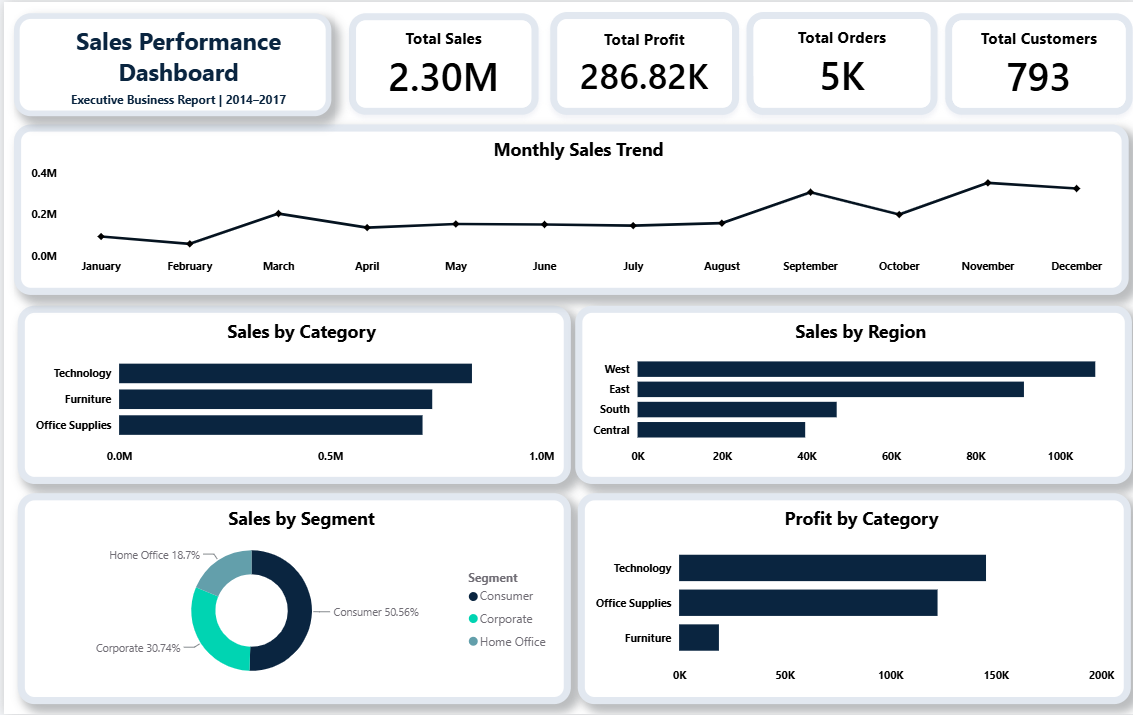

The page's visual inventory and layout, read from the dashboard file:
{"tool":"powerbi","page":{"name":"Page 1","canvas":[1278,803],"ordinal":0},"visuals":[{"type":"cardVisual","fields":{"Data":["Sum(Superstore.Sales)"]},"box":[388.9,12.1,213.9,114.4],"z":0},{"type":"cardVisual","fields":{"Data":["Sum(Superstore.Profit)"]},"box":[614.9,10.8,212.6,115.7],"z":1000},{"type":"cardVisual","fields":{"Data":["Superstore.Total Orders"]},"box":[836.9,10.8,215.3,115.7],"z":2000},{"type":"cardVisual","fields":{"Data":["Superstore.Total Customers"]},"box":[1060.3,12.1,211.2,114.4],"z":3000},{"type":"clusteredBarChart","title":"Sales by Category","fields":{"Category":["Superstore.Category"],"Y":["Sum(Superstore.Sales)"]},"box":[15.1,341.9,623.5,201.1],"z":5000},{"type":"lineChart","title":"Monthly Sales Trend","fields":{"Y":["Sum(Superstore.Sales)"],"Category":["Superstore.Order_Date.Variation.Date Hierarchy.Year","Superstore.Order_Date.Variation.Date Hierarchy.Quarter","Superstore.Order_Date.Variation.Date Hierarchy.Month","Superstore.Order_Date.Variation.Date Hierarchy.Day"]},"box":[10.9,137.7,1256.1,192.3],"z":5500},{"type":"clusteredBarChart","title":"Sales by Region","fields":{"Category":["Superstore.Region"],"Y":["Sum(Superstore.Profit)"]},"box":[643.6,341.9,627.3,201.1],"z":6000},{"type":"donutChart","title":"Sales by Segment","fields":{"Category":["Superstore.Segment"],"Y":["Sum(Superstore.Sales)"]},"box":[15.1,553.1,623.5,237.6],"z":7000},{"type":"clusteredBarChart","title":"Profit by Category","fields":{"Category":["Superstore.Category"],"Y":["Sum(Superstore.Profit)"]},"box":[646.1,553.1,623.5,237.6],"z":8000},{"type":"textbox","title":"Sales Performance Dashboard","box":[10.8,12.1,357.9,115.7],"z":9000}]}

Visuals, with their boxes in screenshot pixels (x1, y1, x2, y2), scaled from the page's 1278x803 canvas onto the 1133x715 screenshot:
cardVisual - Sum(Superstore.Sales): select_region(345, 11, 534, 113)
cardVisual - Sum(Superstore.Profit): select_region(545, 10, 734, 113)
cardVisual - Superstore.Total Orders: select_region(742, 10, 933, 113)
cardVisual - Superstore.Total Customers: select_region(940, 11, 1127, 113)
"Sales by Category" clusteredBarChart: select_region(13, 304, 566, 483)
"Monthly Sales Trend" lineChart: select_region(10, 123, 1123, 294)
"Sales by Region" clusteredBarChart: select_region(571, 304, 1127, 483)
"Sales by Segment" donutChart: select_region(13, 492, 566, 704)
"Profit by Category" clusteredBarChart: select_region(573, 492, 1126, 704)
"Sales Performance Dashboard" textbox: select_region(10, 11, 327, 114)
